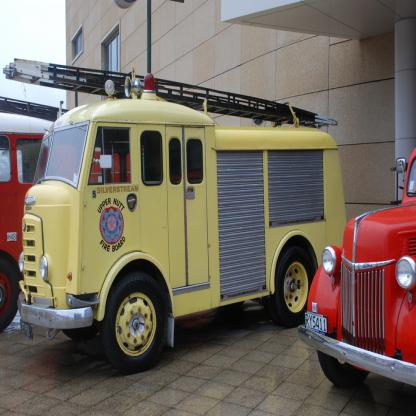Car: (297, 147, 415, 389)
Truck: (3, 59, 348, 372), (0, 97, 130, 331), (298, 148, 416, 386)
